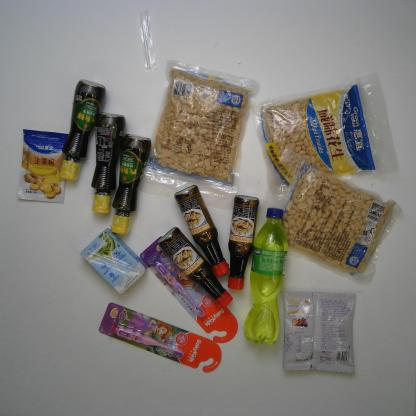Dried Fruit: (255, 148, 406, 287), (249, 73, 402, 203), (142, 60, 260, 202)
Drink: (244, 207, 290, 344)
Instant Drink: (281, 289, 358, 373)
Milk: (80, 228, 148, 294)
Personal Hygiene: (139, 236, 239, 343), (98, 302, 222, 372)
Seasoner: (158, 226, 233, 308), (174, 185, 230, 277), (58, 79, 105, 181), (16, 127, 70, 203), (112, 134, 152, 234), (90, 114, 125, 213), (228, 194, 259, 291)
